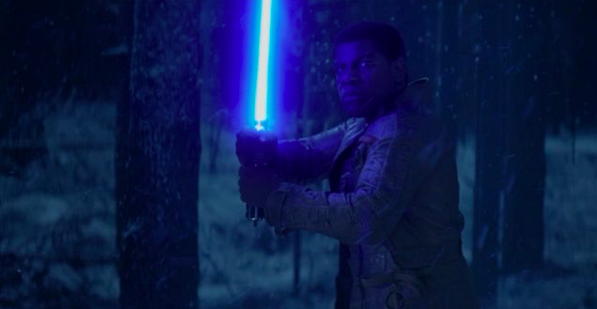lightsaber: (238, 0, 284, 184)
